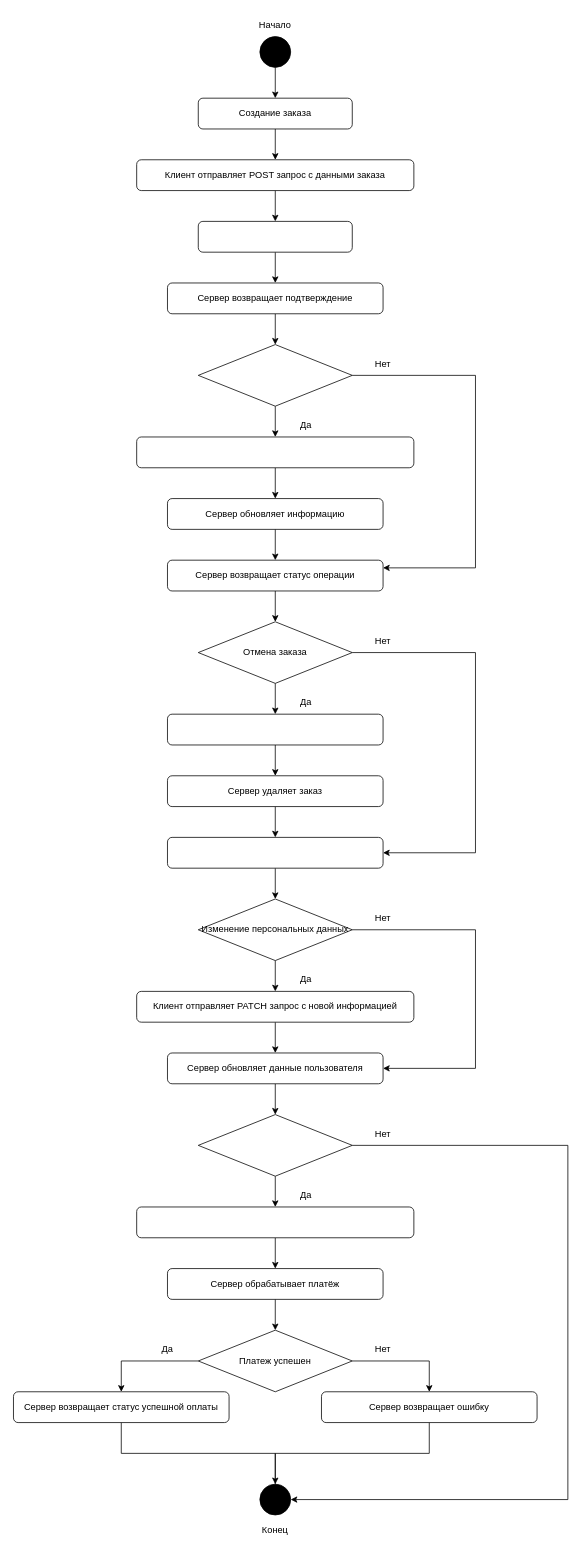
This 588x1558 diagram has some shape labels left out. The shapes that lost their labels are listed below. From the top down, each one's box as (x1, y1, x2, y2) in pixels, then its label:
(198, 221, 352, 252): Сервер сохраняет заказ
(198, 344, 352, 406): Редактирование заказа
(136, 436, 414, 468): Клиент отправляет PUT запрос с обновленными данными
(167, 713, 383, 745): Клиент отправляет DELETE запрос с ID заказа
(167, 837, 383, 868): Сервер возвращает результат
(198, 1114, 352, 1176): Оплата заказа
(136, 1206, 414, 1238): Клиент отправляет POST запрос на оплату с данными платежа
